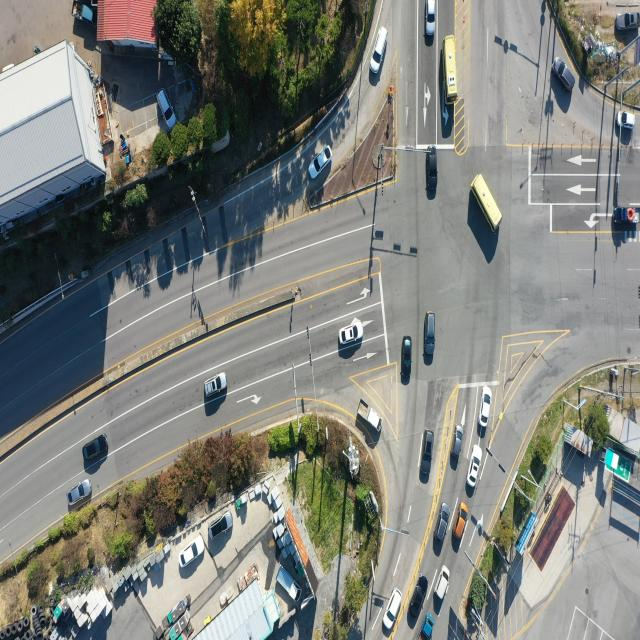car: (178, 533, 206, 574), (157, 89, 178, 132), (410, 576, 430, 620), (554, 58, 576, 95), (370, 29, 387, 76), (384, 590, 403, 631), (309, 147, 331, 182), (80, 434, 107, 460), (421, 432, 434, 486), (68, 480, 92, 508), (466, 444, 482, 486), (209, 514, 232, 542), (340, 320, 364, 346), (424, 309, 436, 361), (437, 502, 452, 543), (451, 504, 468, 540), (426, 150, 438, 199), (400, 335, 412, 384), (205, 373, 228, 398), (451, 426, 464, 470), (481, 386, 493, 428), (436, 564, 450, 599), (616, 10, 640, 30), (616, 108, 636, 132), (426, 0, 437, 37)
medium_truck: (616, 204, 640, 226)
small_bus: (472, 172, 504, 231), (444, 34, 458, 103)
small_truck: (358, 397, 383, 434), (278, 564, 302, 602), (70, 0, 97, 28), (420, 613, 435, 640)
